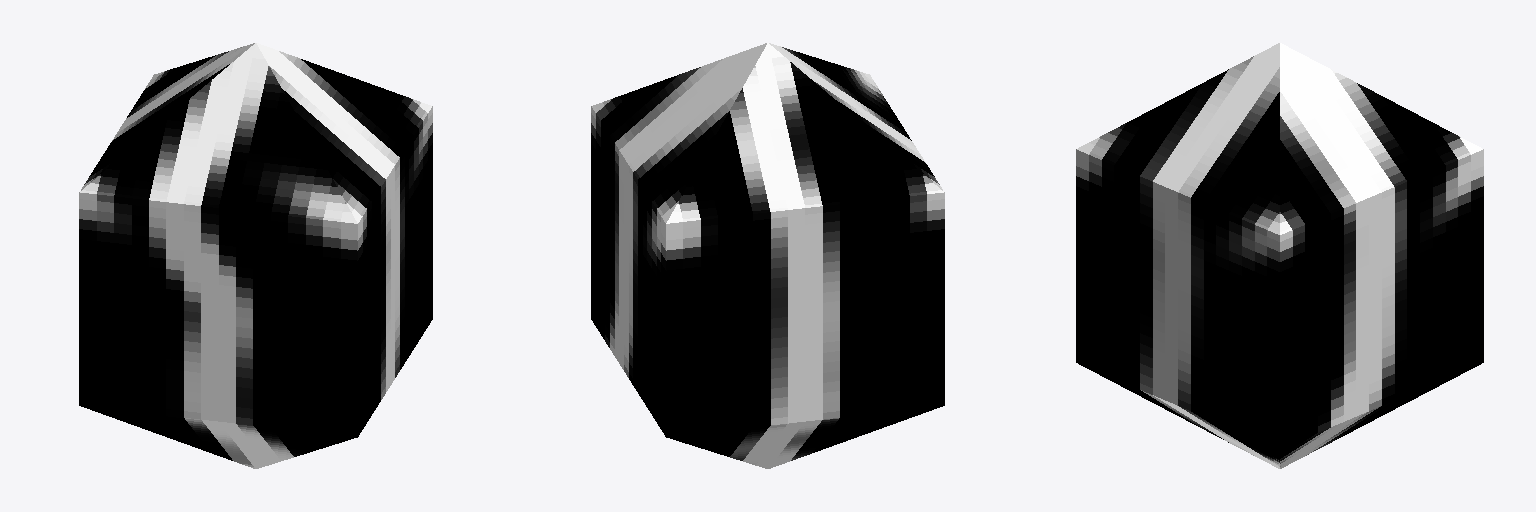
3 views of the same model, side by side, from view 1: azimuth 30°, elevation 25°; view 2: azimuth 150°, elevation 25°; view 3: azimuth 270°, elevation 25° (orthographic).
Parts seen in each view (by area): view 1: Sphere; view 2: Sphere; view 3: Sphere.
Part boxes in pixels (left/top/right/bottom): Sphere: left=79, top=43, right=432, bottom=468; Sphere: left=591, top=43, right=944, bottom=468; Sphere: left=1076, top=43, right=1483, bottom=468.
Size of the model in its own units: 1.73 by 2 by 1.73.
Materials: 1 (1 with a texture image).